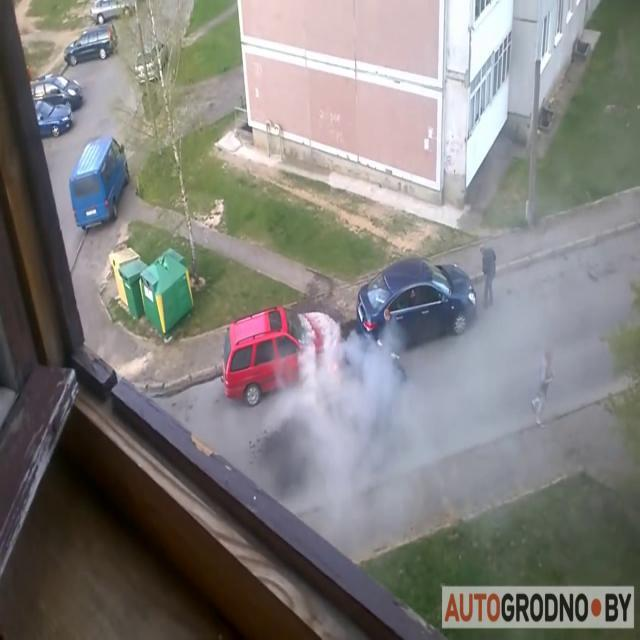Smoke: (428, 195, 640, 496), (270, 285, 416, 552)
